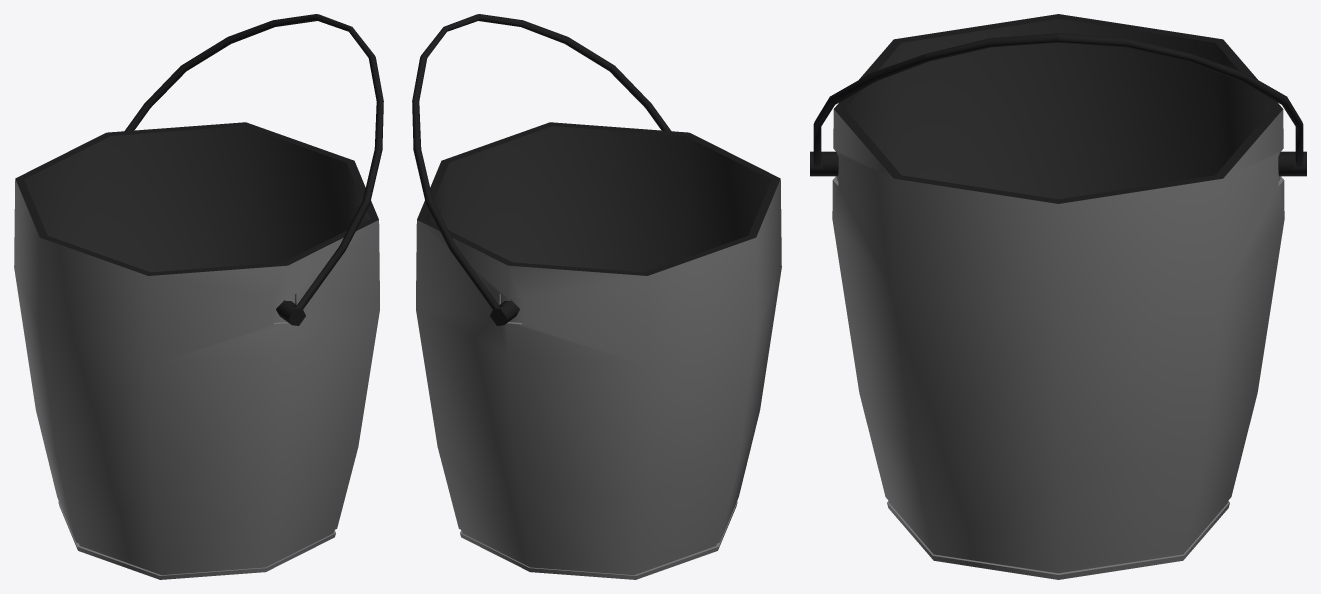
Rendered from Hea_Ba_Bucket.fbx.
The picture shows the model from 3 angles, left to right: view 1: azimuth 30°, elevation 25°; view 2: azimuth 150°, elevation 25°; view 3: azimuth 270°, elevation 25°; orthographic projection. The views are drawn at different scales.
Visible parts, largest first — view 1: Bucket; view 2: Bucket; view 3: Bucket.
Part boxes in pixels (x1=…): Bucket: x1=14, y1=14, x2=383, y2=579; Bucket: x1=412, y1=14, x2=781, y2=579; Bucket: x1=810, y1=14, x2=1306, y2=579.
Size of the model in its own units: 43.6 by 60.3 by 47.93.
